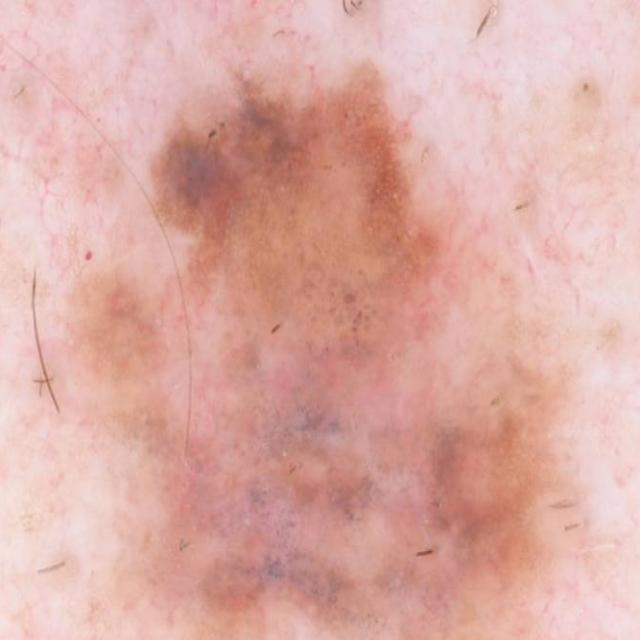Melanoma: (89, 71, 612, 640)
